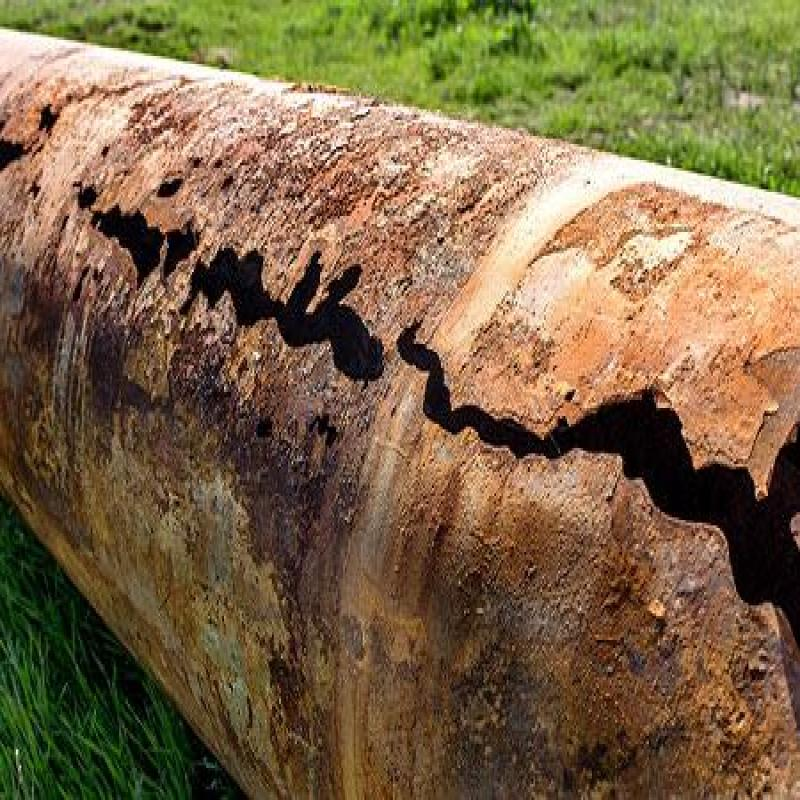Fracture: (442, 353, 800, 598), (65, 177, 401, 386)
